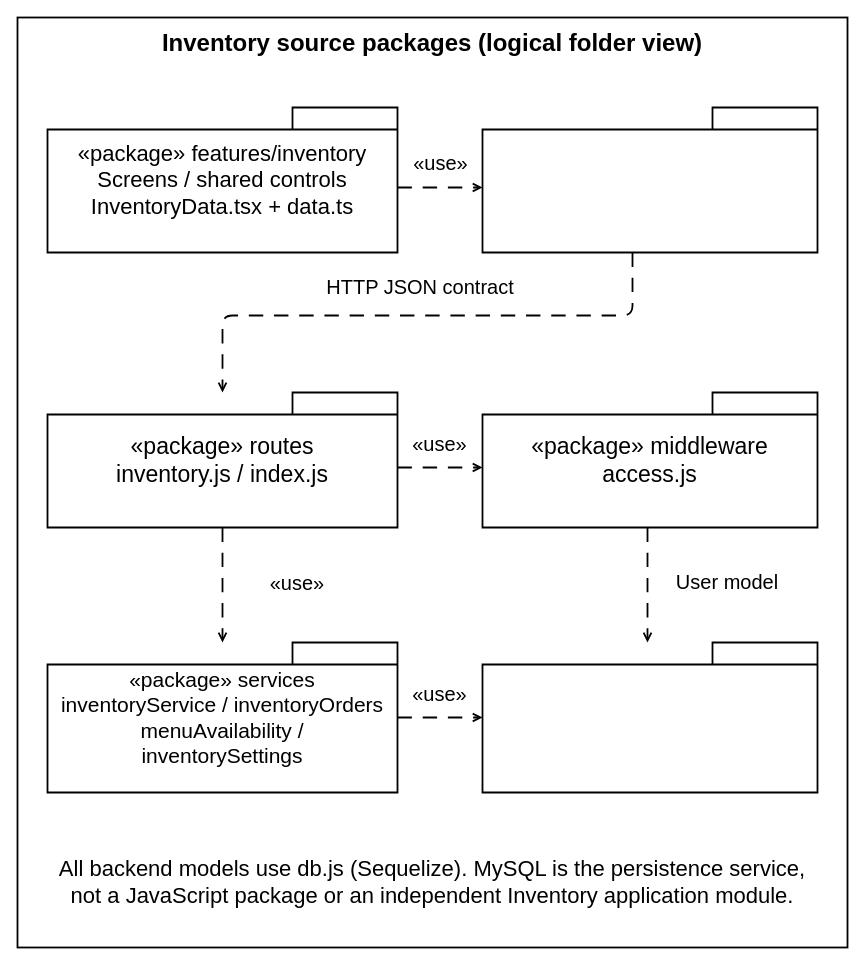
Some shapes in this 866 by 966 pixel diagram are drawn without their labels. The box of each missing label's shape, as (x1, y1, x2, y2) in pixels:
«package» client support hooks / components / utils services/api.ts: (481, 106, 818, 253)
«package» models inventoryModels + shared models index.js associations / db.js: (481, 641, 818, 793)
